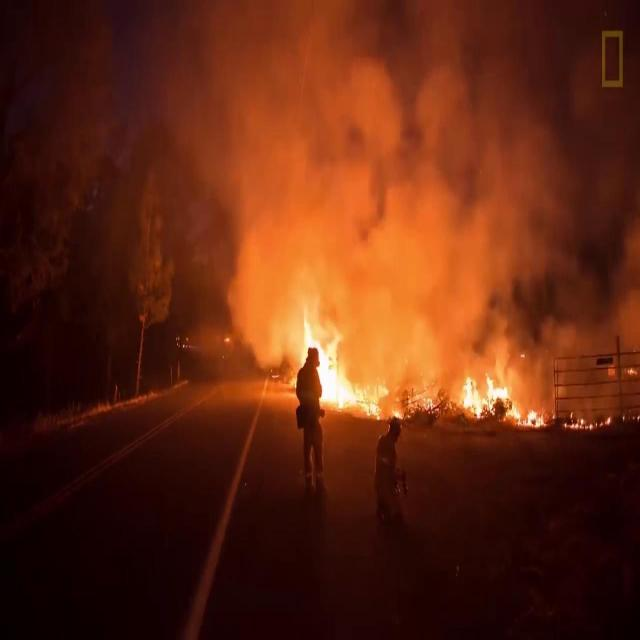Fire: (301, 308, 387, 421), (455, 369, 508, 419), (564, 412, 612, 431), (511, 406, 546, 430), (626, 365, 637, 376)
